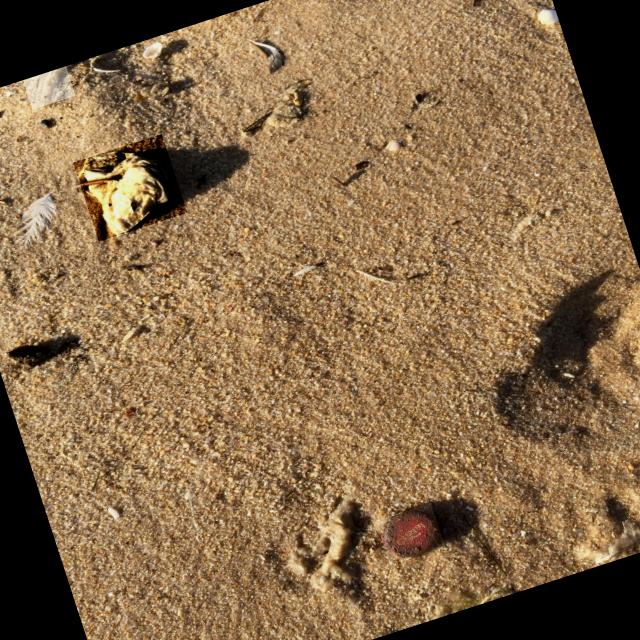Bottle cap: (381, 509, 440, 558)
Paper bag: (78, 152, 170, 236)
Plastic film: (590, 520, 640, 565), (33, 72, 67, 109)
